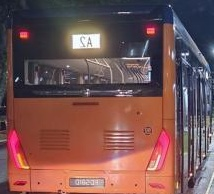bus: (73, 33, 99, 48)
